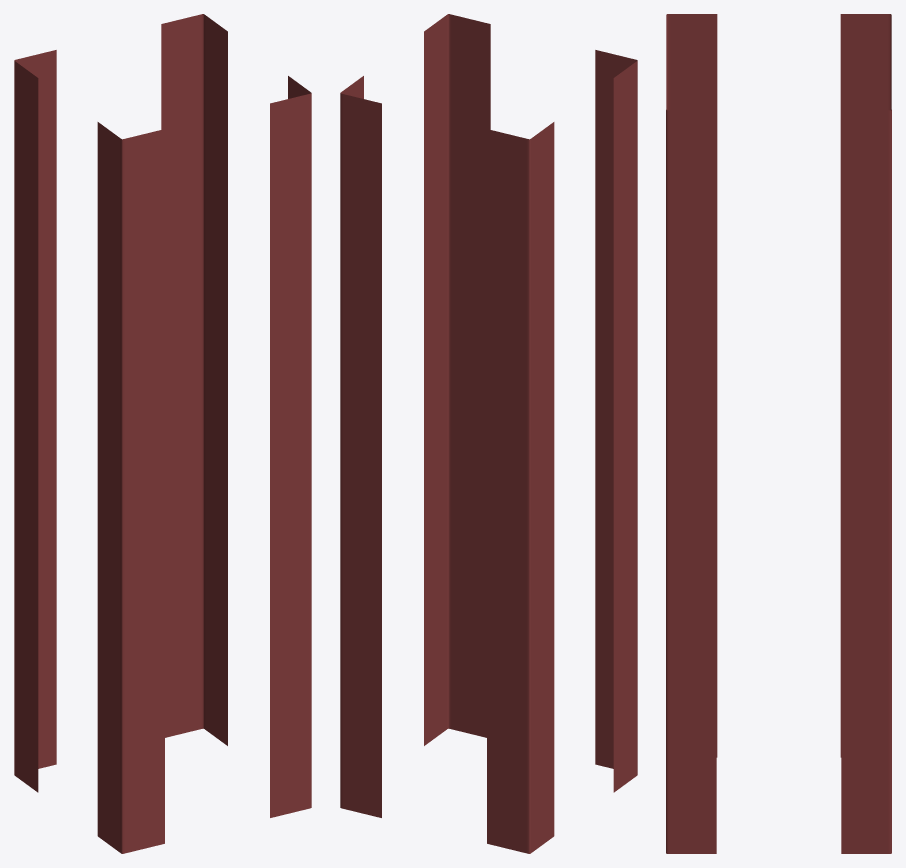
File: Decal_wallIn_C_column_medium.FBX
The picture shows the model from 3 angles, left to right: view 1: azimuth 30°, elevation 25°; view 2: azimuth 150°, elevation 25°; view 3: azimuth 270°, elevation 25°; orthographic projection. The views are drawn at different scales.
Visible parts, largest first — view 1: Decal_wallIn_C_column_medium; view 2: Decal_wallIn_C_column_medium; view 3: Decal_wallIn_C_column_medium.
Part boxes in pixels (<box>): Decal_wallIn_C_column_medium: <box>14,14,311,853</box>; Decal_wallIn_C_column_medium: <box>340,14,637,853</box>; Decal_wallIn_C_column_medium: <box>666,14,891,853</box>.
Size of the model in its own units: 75.72 by 272 by 74.92.
